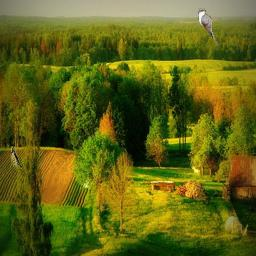Cuckoo: (198, 8, 218, 48)
Swallow: (11, 146, 22, 169)
